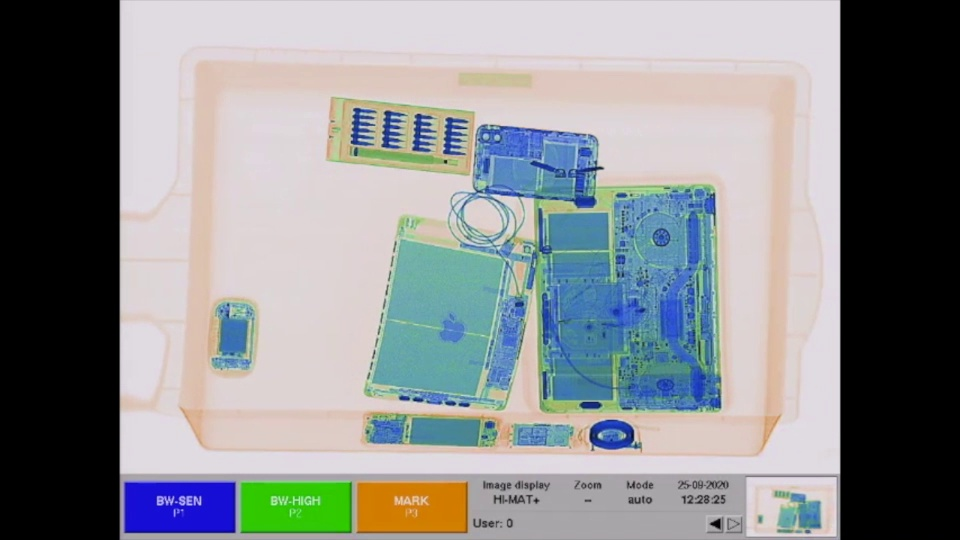tray_img: (152, 39, 832, 464)
